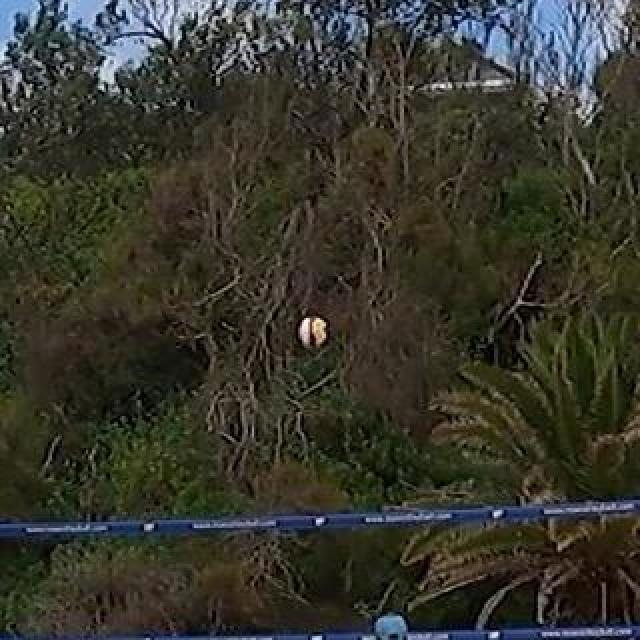volleyball: (296, 318, 328, 348)
